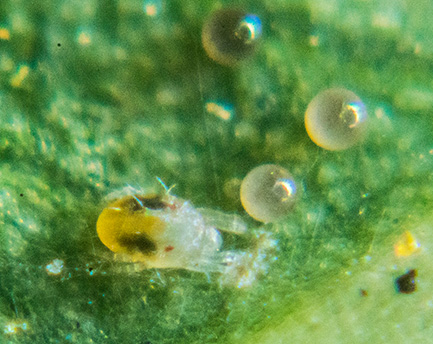Mites: (84, 175, 262, 287)
